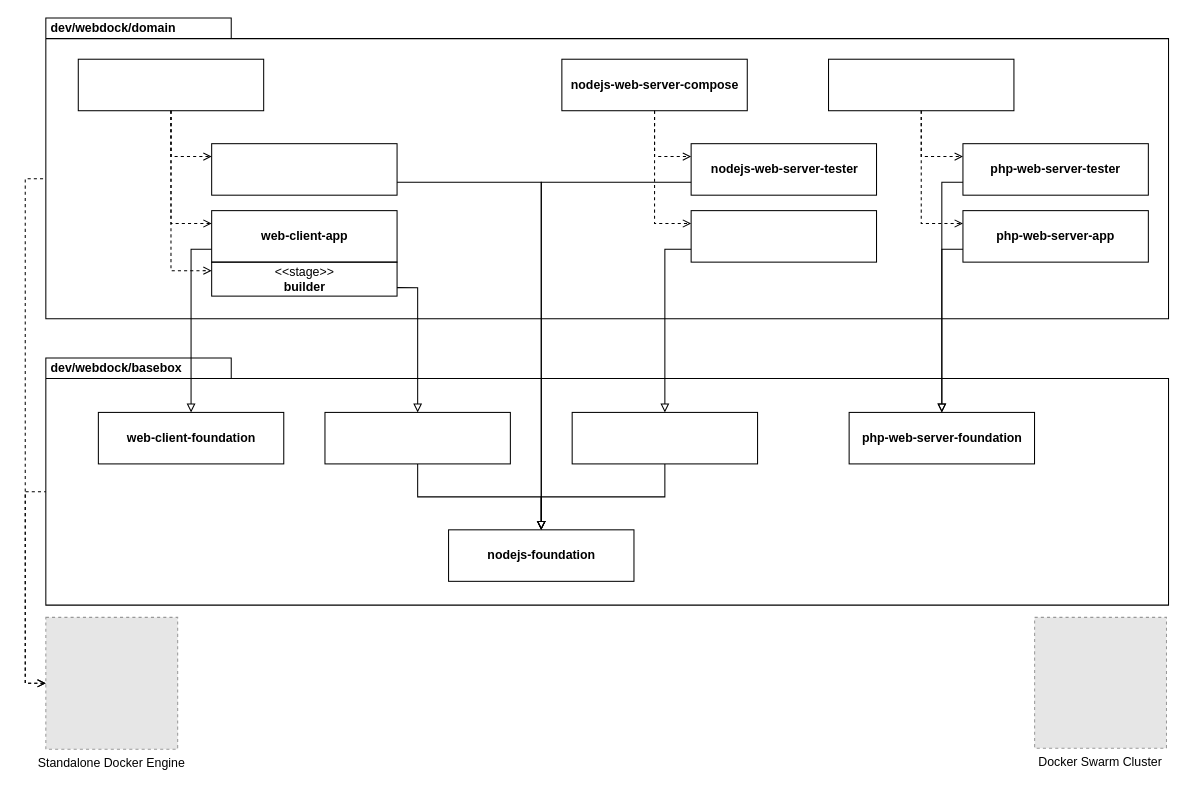
Image size: 1187x789. Some labels were removed from this diagram. Grey dashed boxes stand in for pictures. The shapes that lost their labels are listed below. From the top down, each one's centre as x and y in pixels, then its label:
At (170,84): "web-client-compose".
At (921,84): "php-web-server-compose".
At (304,169): "web-client-tester".
At (783,236): "nodejs-web-server-app".
At (417,437): "web-assets-builder".
At (664,437): "nodejs-web-server-foundation".
